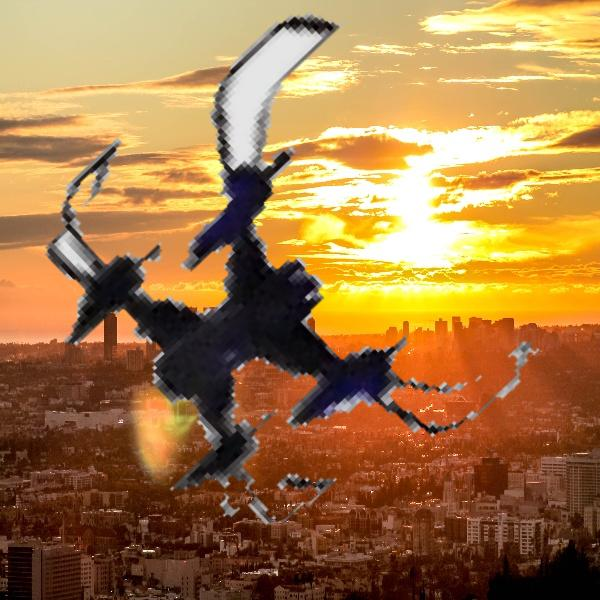drone: (37, 43, 540, 546)
